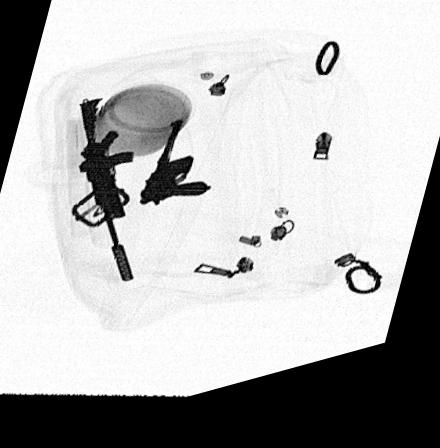Gun: (77, 102, 135, 288), (138, 128, 209, 215)
